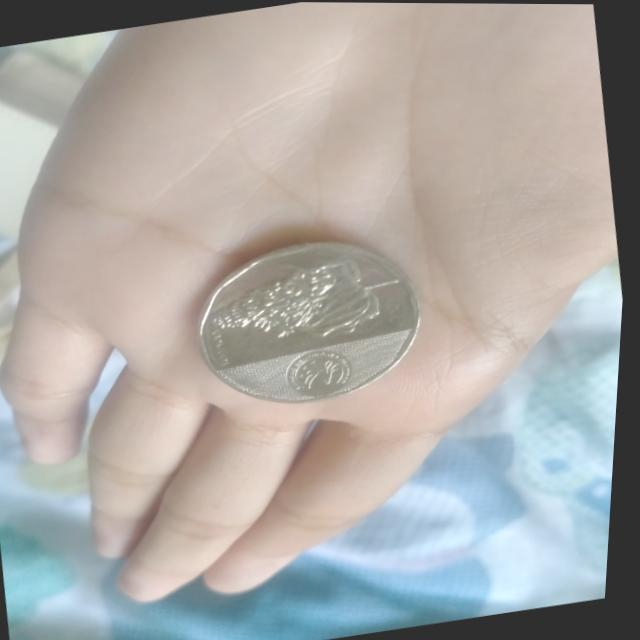10_New_Back: (197, 246, 409, 416)
